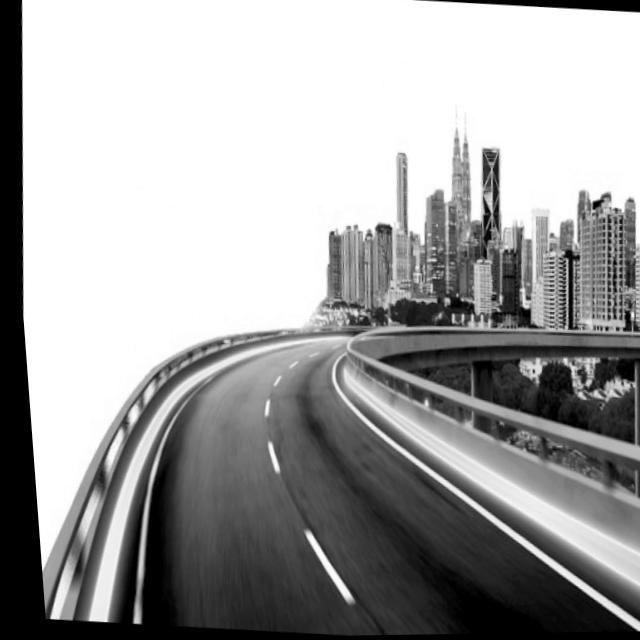cleat: (106, 245, 640, 636)
